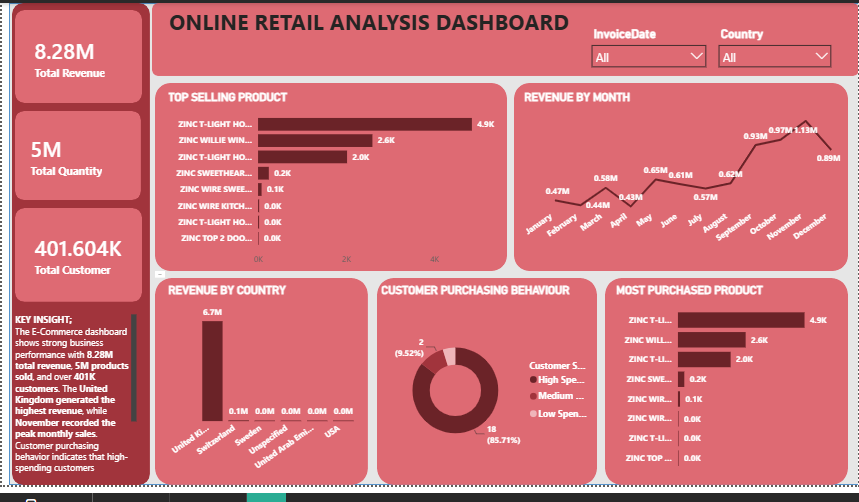

The dashboard page shown, as its layout file describes it:
{"tool":"powerbi","page":{"name":"Page 2","canvas":[1280,720],"ordinal":1},"visuals":[{"type":"shape","box":[10.5,0,1269.7,720],"z":0},{"type":"shape","box":[14.9,0,206.1,720],"z":1},{"type":"shape","box":[224.1,0,1056.1,109],"z":2},{"type":"shape","box":[228.5,410.8,318.2,309.2],"z":3},{"type":"shape","box":[764.8,119.5,498.9,280.8],"z":4},{"type":"shape","box":[900.7,410.8,363,309.2],"z":5},{"type":"shape","box":[560.2,410.8,328.6,309.2],"z":6},{"type":"shape","box":[228.5,119.5,525.8,280.8],"z":7},{"type":"donutChart","title":"CUSTOMER PURCHASING BEHAVIOUR","fields":{"Category":["OnlineRetail.Customer Segment"],"Y":["CountNonNull(OnlineRetail.CustomerID)"]},"box":[561.7,418.3,327.1,301.7],"z":8},{"type":"clusteredColumnChart","title":"REVENUE BY COUNTRY","fields":{"Category":["OnlineRetail.Country"],"Y":["OnlineRetail.Total Revenue"]},"box":[243.5,418.3,303.2,291.3],"z":9},{"type":"clusteredBarChart","title":"MOST PURCHASED PRODUCT","fields":{"Y":["Sum(OnlineRetail.Quantity)"],"Category":["OnlineRetail.Description"]},"box":[912.1,418.3,336,290.6],"z":10},{"type":"clusteredBarChart","title":"TOP SELLING PRODUCT","fields":{"Category":["OnlineRetail.Description"],"Y":["Sum(OnlineRetail.Quantity)"]},"box":[243.5,130,503.4,270.4],"z":11},{"type":"lineChart","title":"REVENUE BY MONTH","fields":{"Category":["OnlineRetail.InvoiceDate.Variation.Date Hierarchy.Month"],"Y":["OnlineRetail.Total Revenue"]},"box":[775.3,130,482.5,246.5],"z":12},{"type":"shape","box":[19.4,10.5,189.7,138.9],"z":13},{"type":"shape","box":[19.4,161.3,188.2,132.9],"z":14},{"type":"shape","box":[19.4,306.2,189.7,140.4],"z":15},{"type":"cardVisual","fields":{"Data":["OnlineRetail.Total Revenue"]},"box":[19.4,17.9,188.2,125.5],"z":16},{"type":"cardVisual","fields":{"Data":["Sum(OnlineRetail.Quantity)"]},"box":[13.4,176.3,192.7,104.6],"z":17},{"type":"cardVisual","fields":{"Data":["CountNonNull(OnlineRetail.CustomerID)"]},"box":[19.4,306.2,204.6,140.4],"z":18},{"type":"textbox","box":[245,0,749.9,92.6],"z":19},{"type":"slicer","fields":{"Values":["OnlineRetail.InvoiceDate"]},"box":[870.9,29.9,191.2,79.2],"z":20},{"type":"slicer","fields":{"Values":["OnlineRetail.Country"]},"box":[1060.6,29.9,188.2,67.2],"z":21},{"type":"textbox","box":[228.5,400.3,14.9,10.5],"z":22},{"type":"textbox","box":[14.9,460.1,191.2,249.5],"z":23}]}

Visuals, with their boxes in screenshot pixels (x1, y1, x2, y2):
shape: [3, 0, 858, 490]
shape: [6, 0, 147, 490]
shape: [149, 0, 858, 70]
shape: [152, 277, 371, 490]
shape: [520, 78, 858, 270]
shape: [614, 277, 858, 490]
shape: [380, 277, 605, 490]
shape: [152, 78, 513, 270]
"CUSTOMER PURCHASING BEHAVIOUR" donutChart: [381, 283, 605, 490]
"REVENUE BY COUNTRY" clusteredColumnChart: [163, 283, 371, 482]
"MOST PURCHASED PRODUCT" clusteredBarChart: [621, 283, 852, 482]
"TOP SELLING PRODUCT" clusteredBarChart: [163, 85, 508, 270]
"REVENUE BY MONTH" lineChart: [527, 85, 858, 254]
shape: [9, 3, 139, 98]
shape: [9, 106, 138, 197]
shape: [9, 206, 139, 302]
cardVisual - OnlineRetail.Total Revenue: [9, 8, 138, 94]
cardVisual - Sum(OnlineRetail.Quantity): [5, 116, 137, 188]
cardVisual - CountNonNull(OnlineRetail.CustomerID): [9, 206, 149, 302]
textbox: [164, 0, 678, 59]
slicer - OnlineRetail.InvoiceDate: [593, 16, 724, 70]
slicer - OnlineRetail.Country: [723, 16, 852, 62]
textbox: [152, 270, 163, 277]
textbox: [6, 311, 137, 482]
